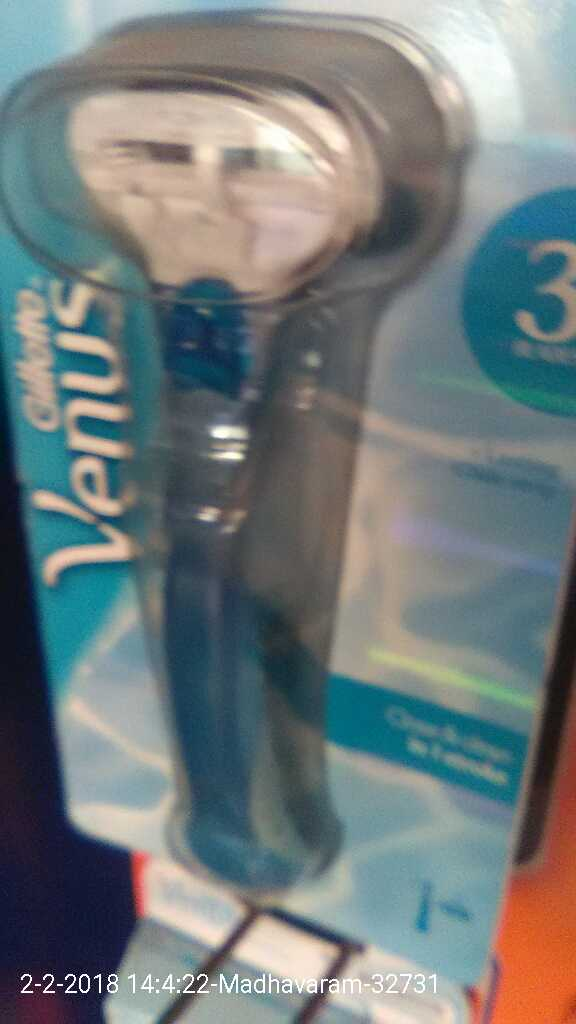venus: (3, 5, 462, 933)
